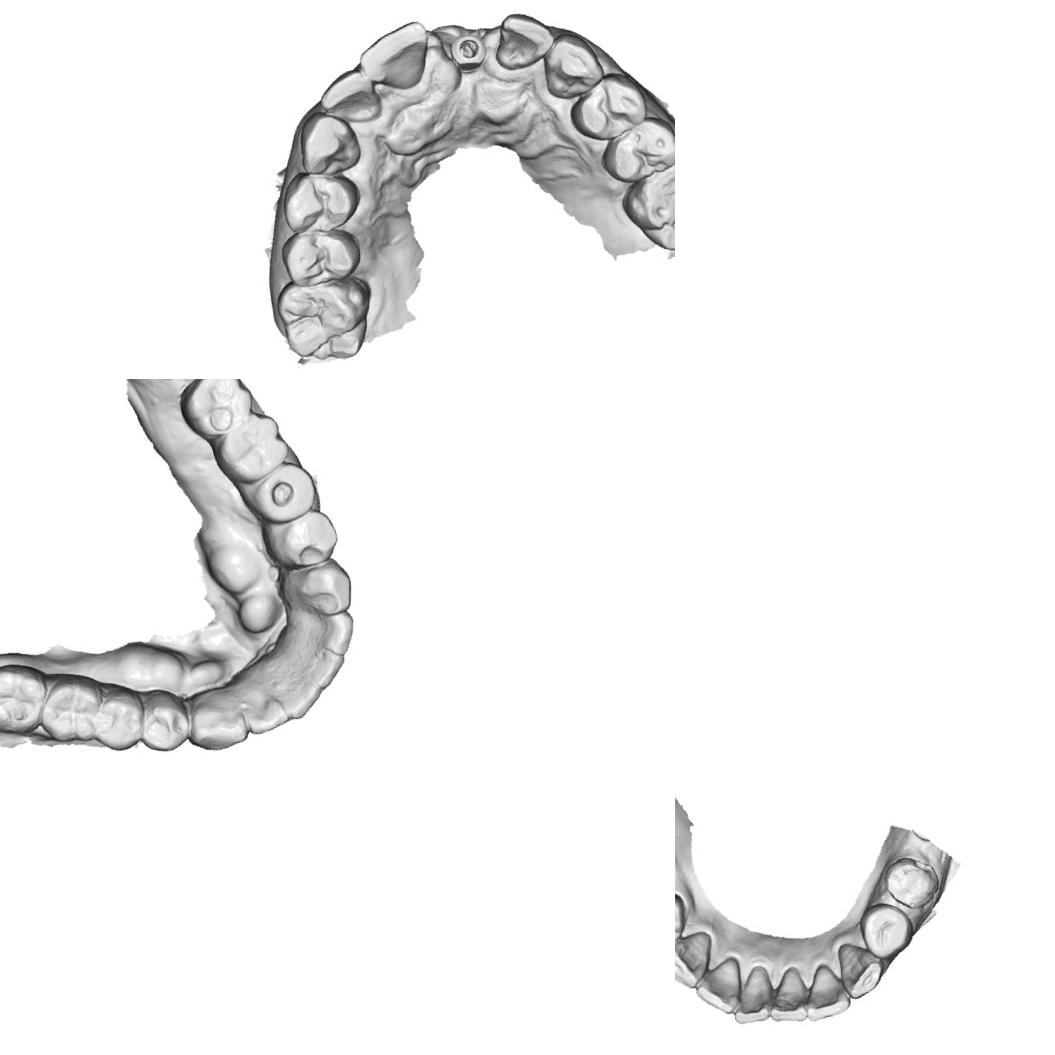canine: (532, 24, 610, 105), (288, 104, 362, 181), (178, 686, 256, 758), (285, 553, 359, 620), (829, 932, 890, 1002), (675, 925, 725, 995)
implant: (442, 26, 490, 74)
incisor: (350, 17, 440, 100), (484, 3, 560, 76), (312, 63, 384, 132), (686, 952, 756, 1022), (792, 955, 856, 1026), (720, 959, 781, 1031), (756, 962, 814, 1030), (307, 603, 362, 662), (237, 682, 293, 738), (298, 640, 353, 695), (276, 672, 327, 722)
molar: (266, 262, 385, 374), (609, 146, 675, 262), (208, 407, 296, 491), (30, 672, 108, 751), (170, 379, 260, 445), (0, 653, 58, 743)
premolar: (559, 64, 656, 150), (271, 158, 367, 244), (273, 217, 365, 295), (588, 109, 675, 191), (239, 454, 326, 532), (260, 504, 344, 577), (84, 683, 152, 756), (852, 894, 921, 964), (875, 848, 946, 916), (132, 687, 196, 759), (675, 885, 693, 952)
